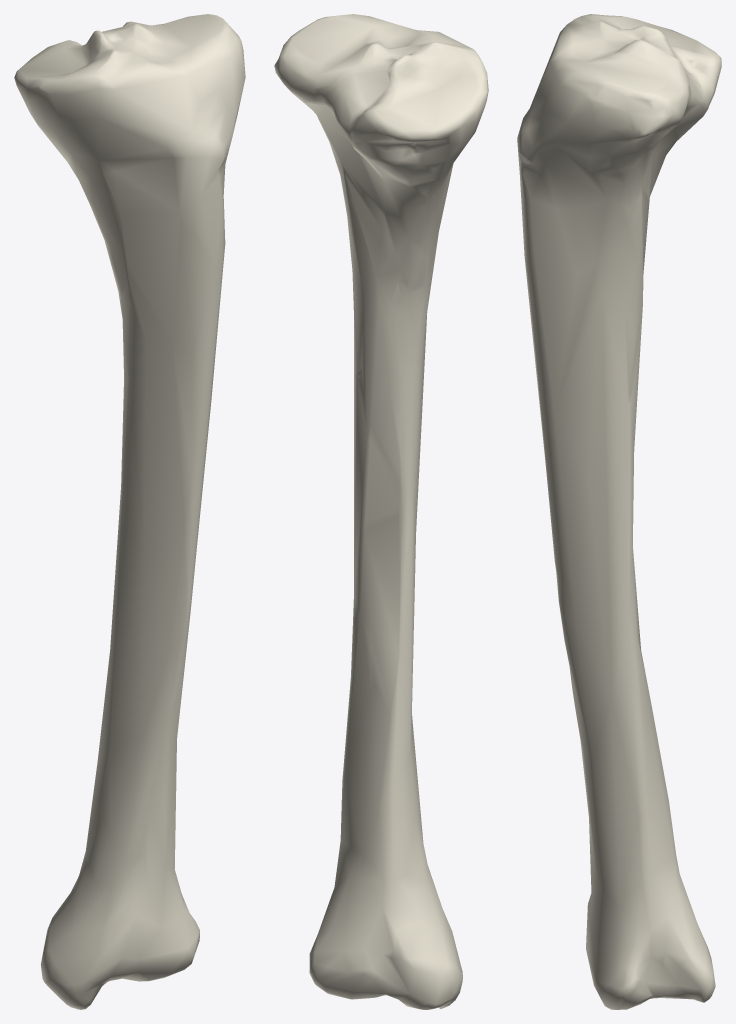
3 renders of one model, left to right at view 1: azimuth 30°, elevation 25°; view 2: azimuth 150°, elevation 25°; view 3: azimuth 270°, elevation 25°, orthographic. The views are drawn at different scales.
Visible parts, largest first — view 1: ZA_28f17798255acd91; view 2: ZA_28f17798255acd91; view 3: ZA_28f17798255acd91.
Part boxes in pixels (x1,y1,x2,y2): ZA_28f17798255acd91: (14,14,245,1009); ZA_28f17798255acd91: (274,14,488,1009); ZA_28f17798255acd91: (517,14,721,1009).
Bounding box in the file's own units: 0.0784 × 0.358 × 0.068.
